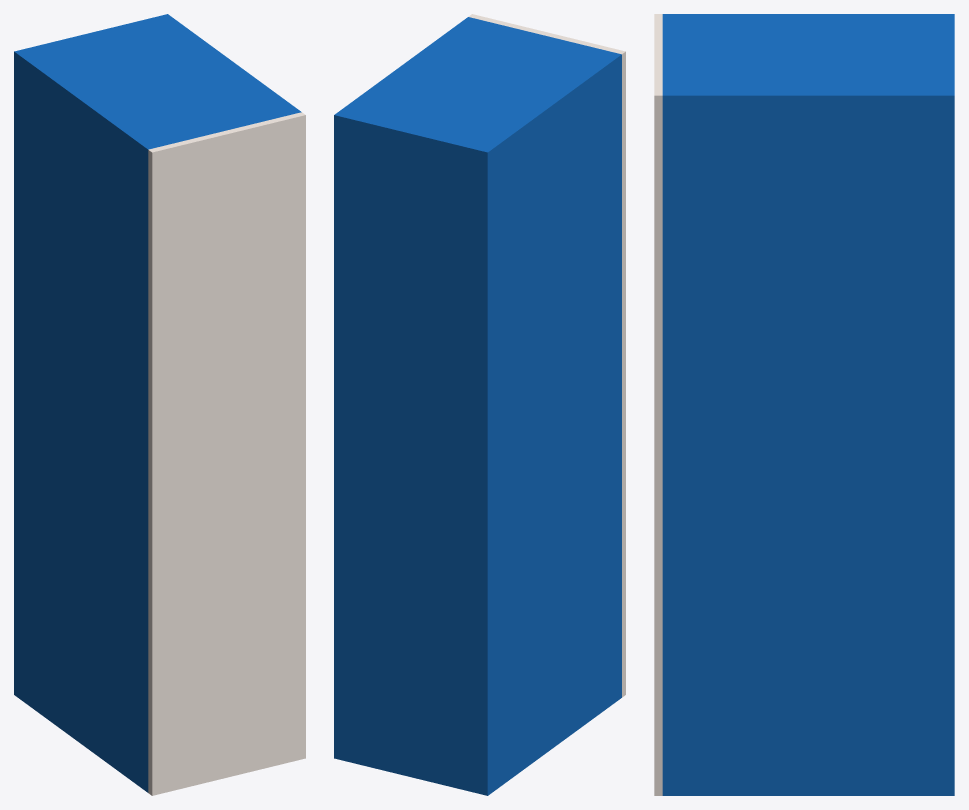
The model's file is nil_link_mesh.dae.
3 views of the same model, side by side, from view 1: azimuth 30°, elevation 25°; view 2: azimuth 150°, elevation 25°; view 3: azimuth 270°, elevation 25° (orthographic). The views are drawn at different scales.
Visible parts, largest first — view 1: nil_link (×2); view 2: nil_link (×2); view 3: nil_link (×2).
Boxes of the visible parts, left/top/right/bottom form: nil_link (×2): left=14, top=14, right=305, bottom=795; nil_link (×2): left=334, top=14, right=625, bottom=795; nil_link (×2): left=654, top=14, right=954, bottom=795.
Size of the model in its own units: 0.45 by 1.8 by 0.7.
